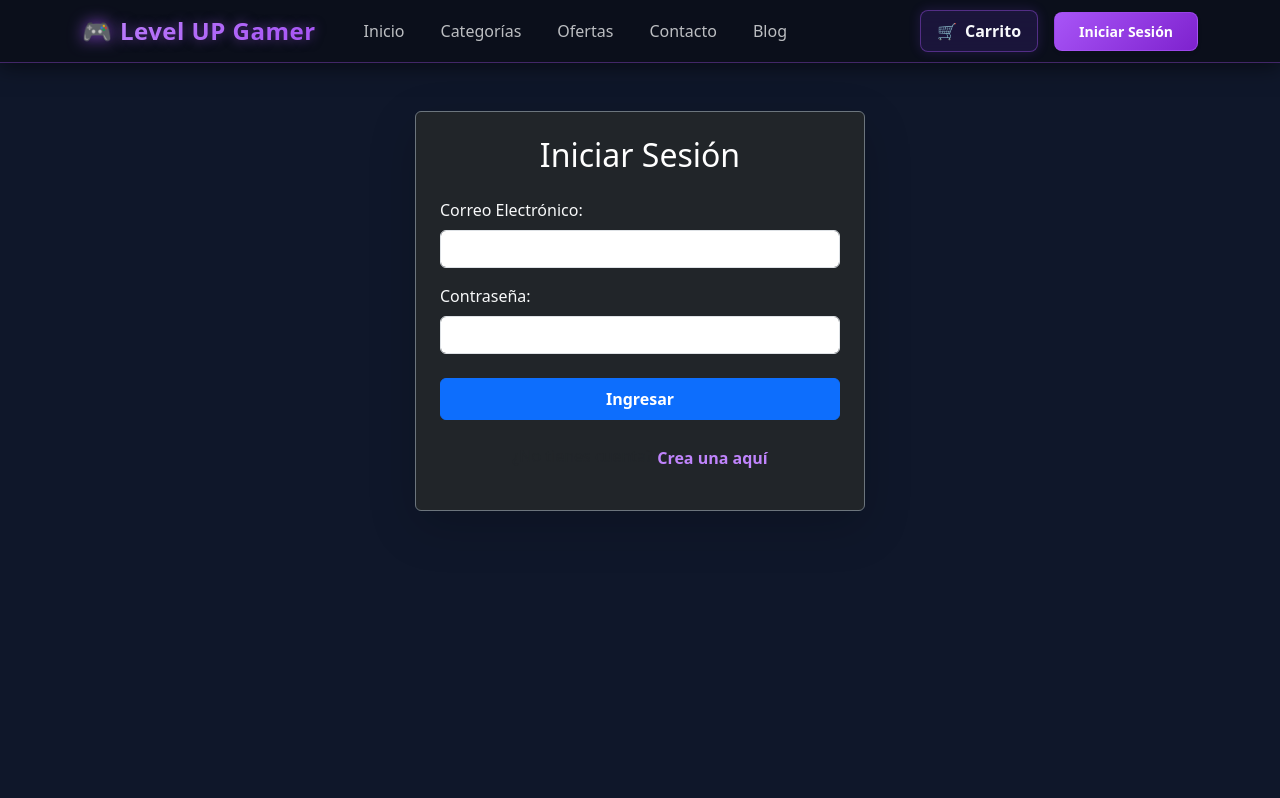
Test case: Pruebas Funcionales App.jsx - Requerimientos de Sistema › Req 2: Solicitud de fecha de nacimiento y validación de mayoría de edad (>= 18 años) › 2.3 permite completar el registro si el usuario tiene 18 años o más
Click the button "Crea una aquí" at x=713, y=458, box [657,446,768,470]
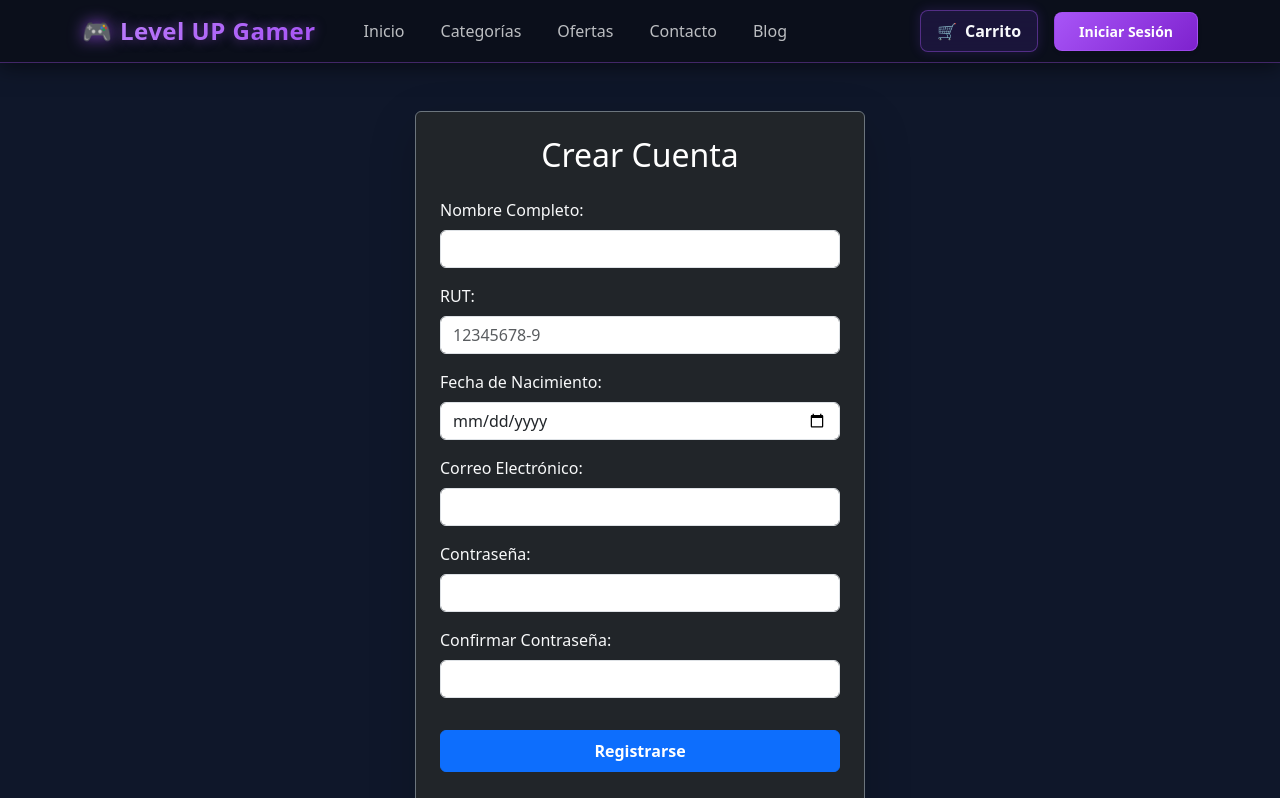
Type "Usuario Adulto" into the field named "nombre" below "Nombre Completo:" at x=640, y=249, box [440,230,840,268]
Type "18333444-5" into the field named "rut" at x=640, y=335, box [440,316,840,354]
Type "2000-05-10" into the date field named "fechaNacimiento" at x=640, y=421, box [440,402,840,440]
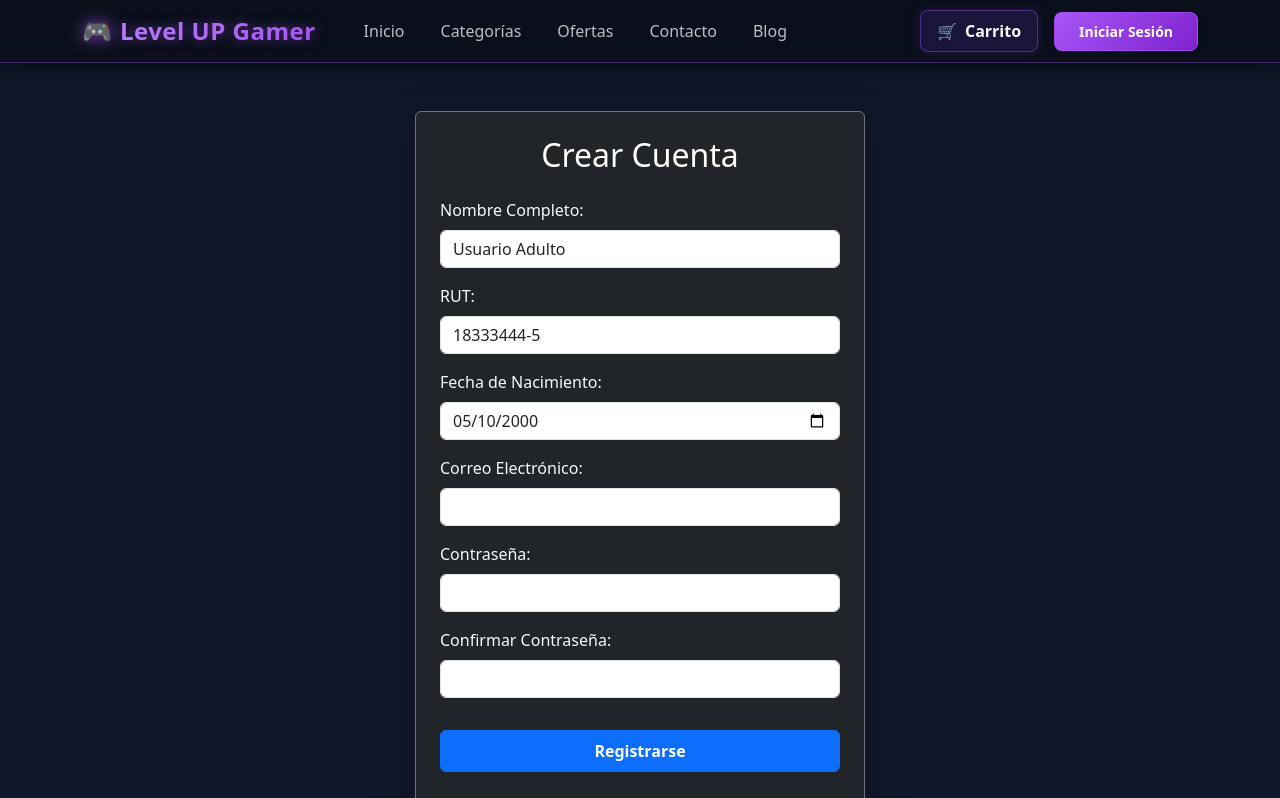
Type "adulto@gmail.com" into the field named "email" below "Correo Electrónico:" at x=640, y=507, box [440,488,840,526]
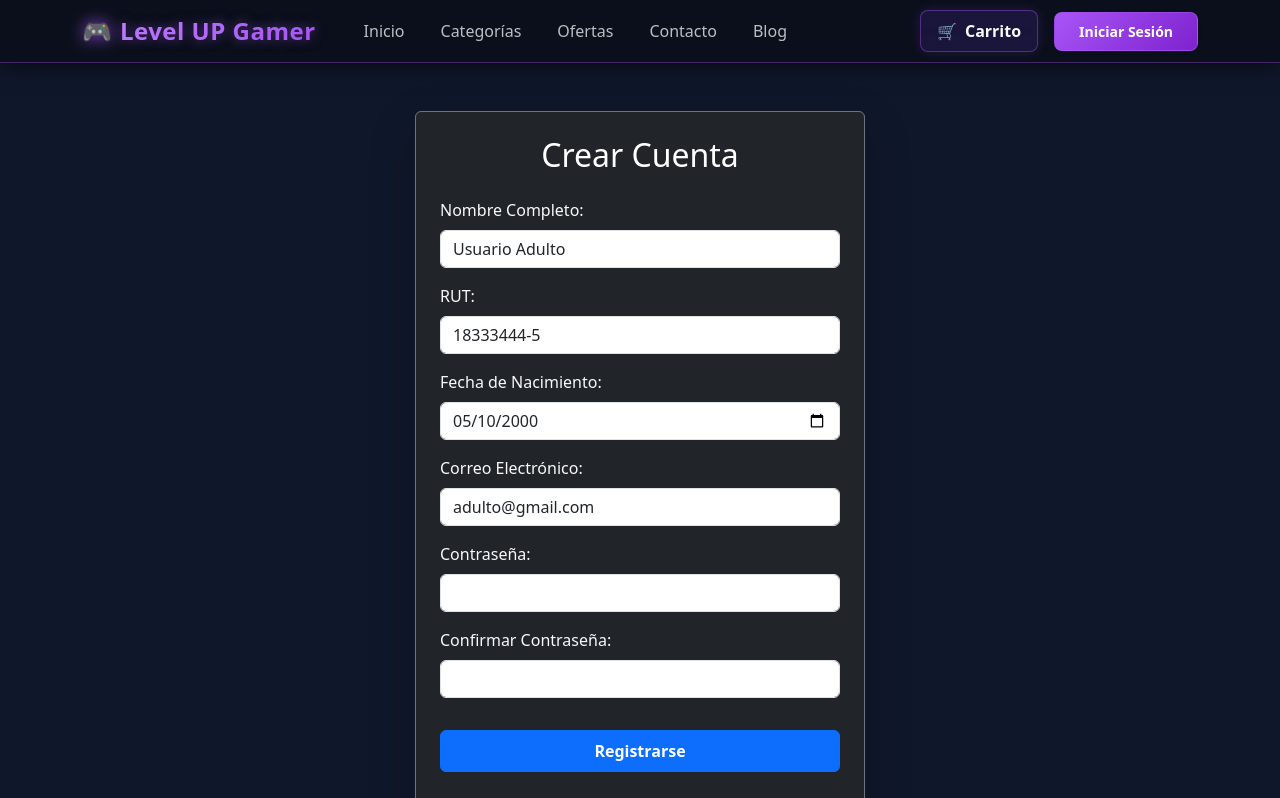
Type "Password123" into the 1st password field named "password" at x=640, y=593, box [440,574,840,612]
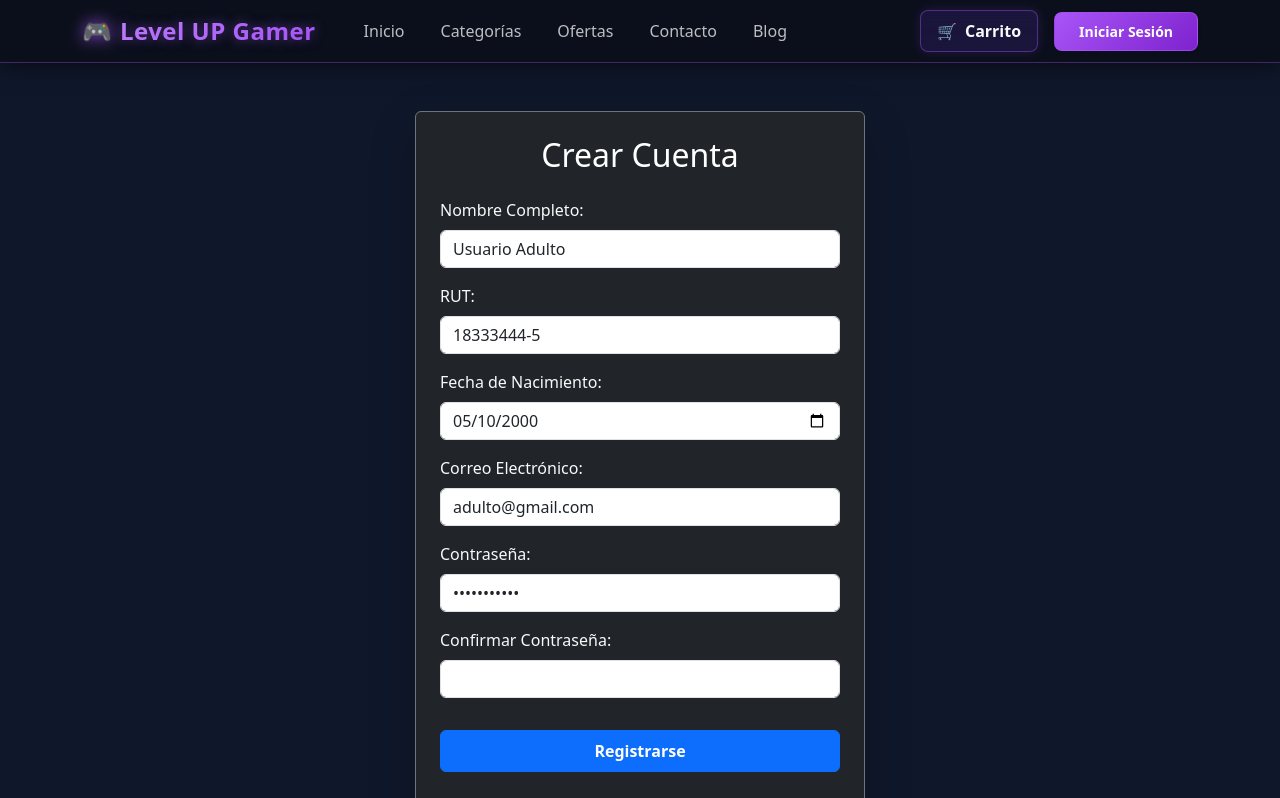
Type "Password123" into the password field named "confirmPassword" below "Confirmar Contraseña:" at x=640, y=679, box [440,660,840,698]
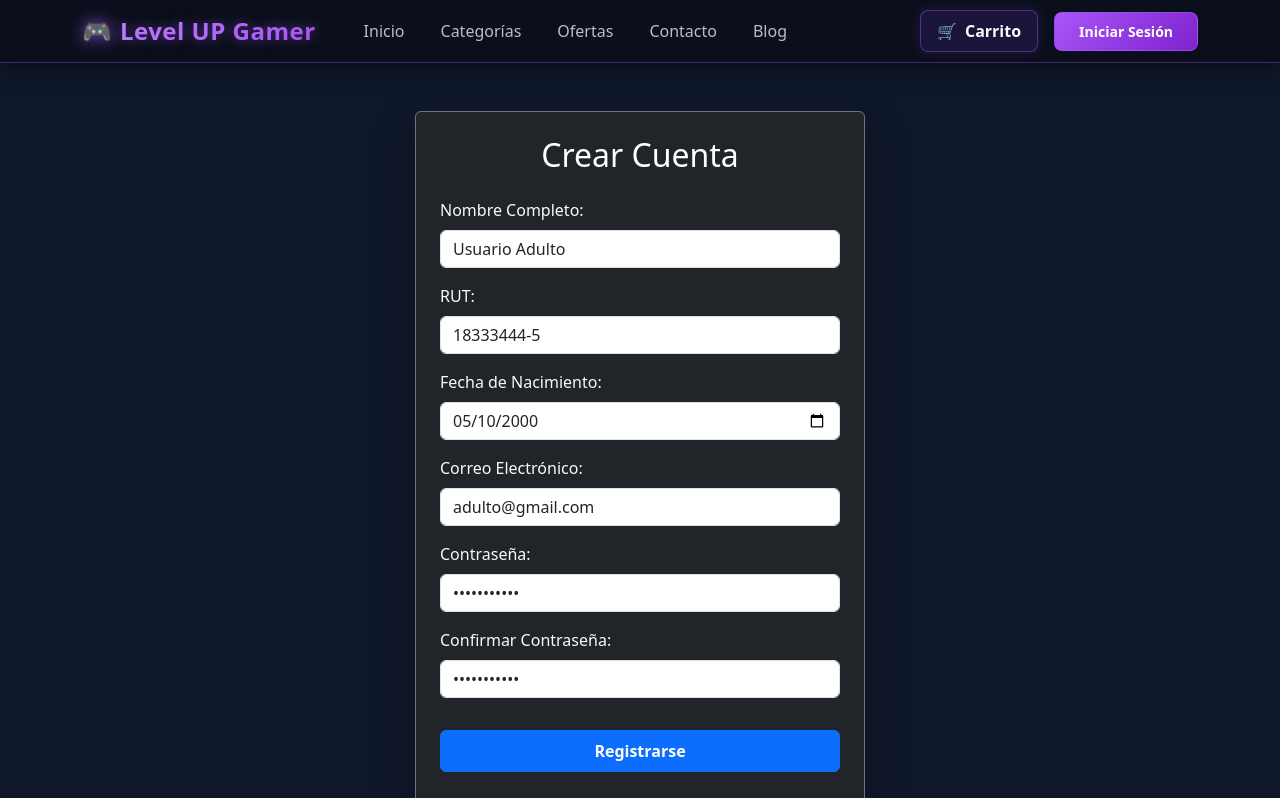
Submit the form, box [440,198,840,772]
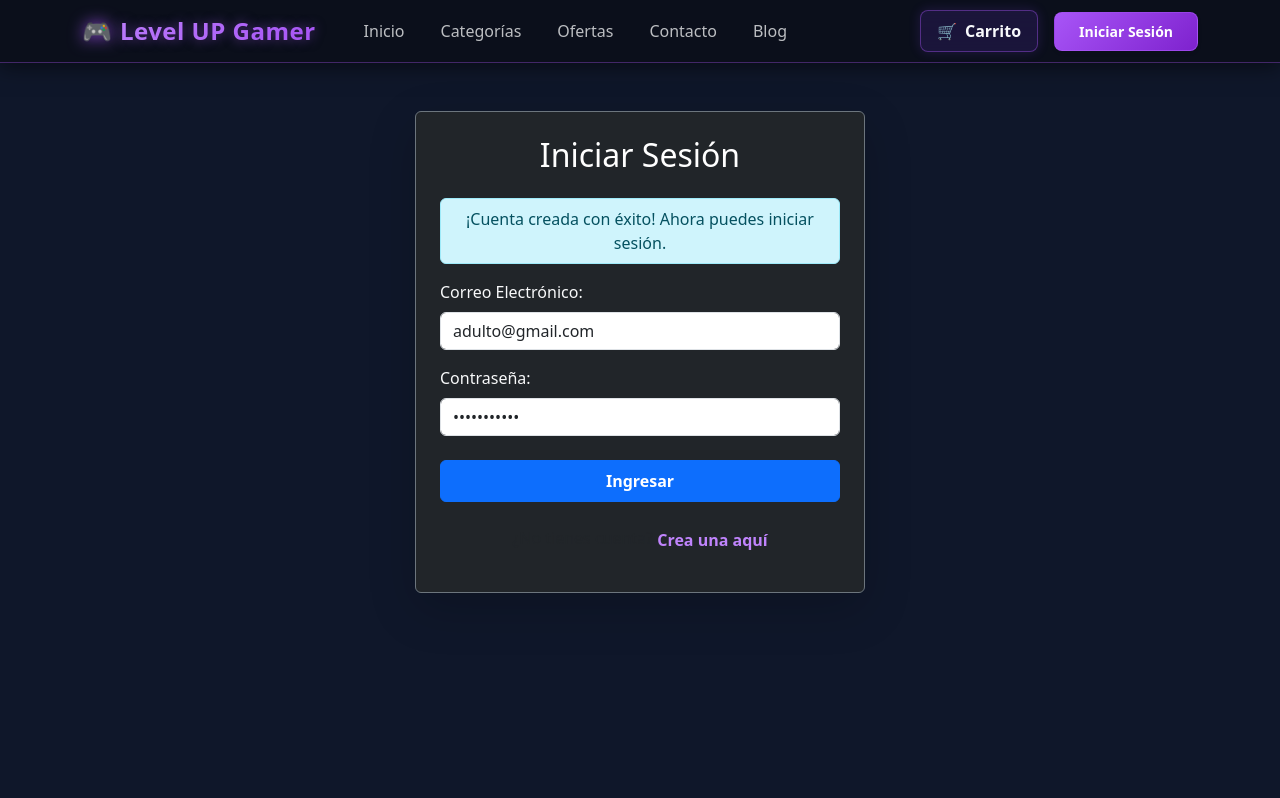
Expected: the text "¡Cuenta creada con éxito! Ahora puedes iniciar sesión." is shown, [440,198,840,264]
